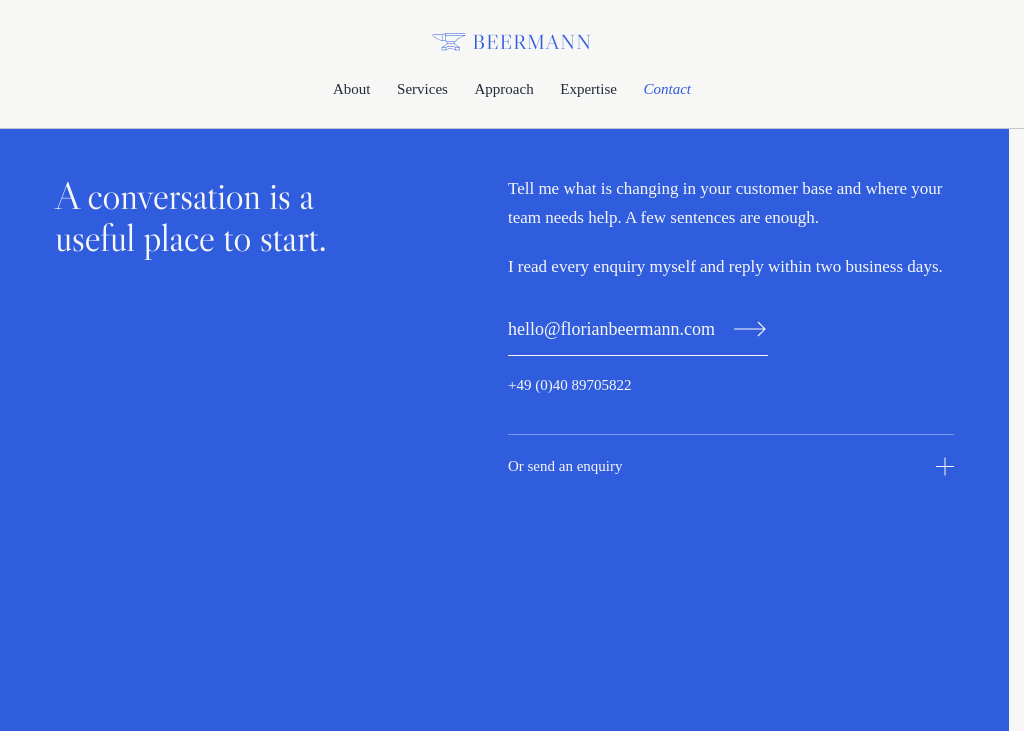
Test: boutique homepage › preserves the draft and offers email recovery after rejection
Click the heading "Or send an enquiry" at (565, 466), box left=508, top=458, right=954, bottom=476
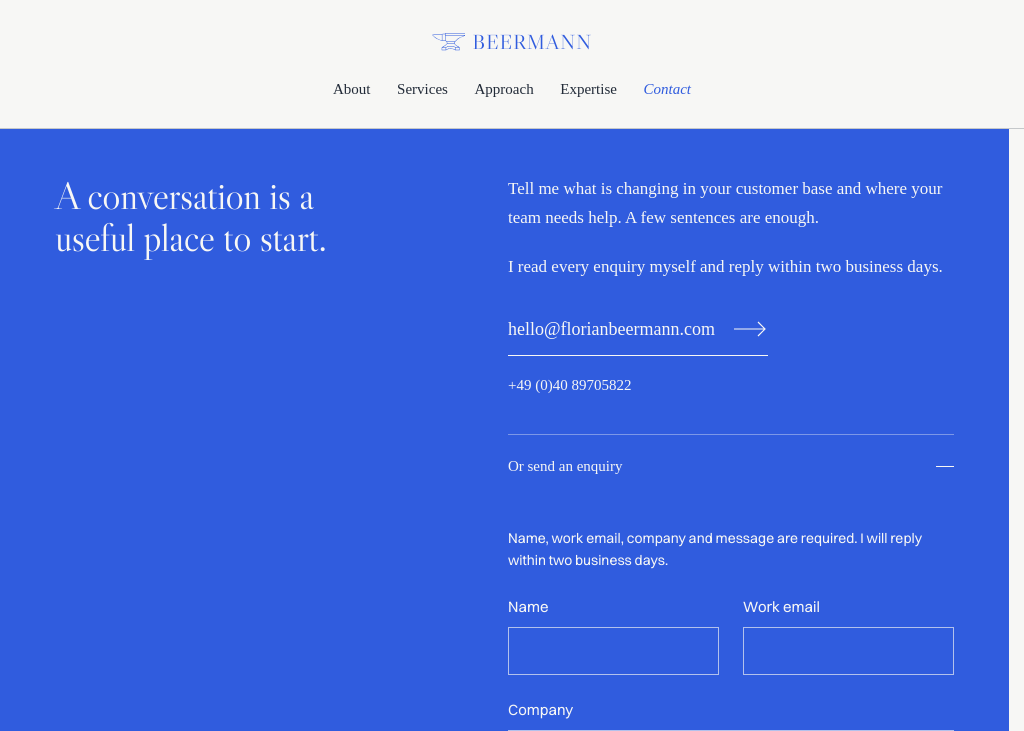
Type "Jane Doe" into the field labelled "Name" at (613, 651), box left=508, top=627, right=719, bottom=675
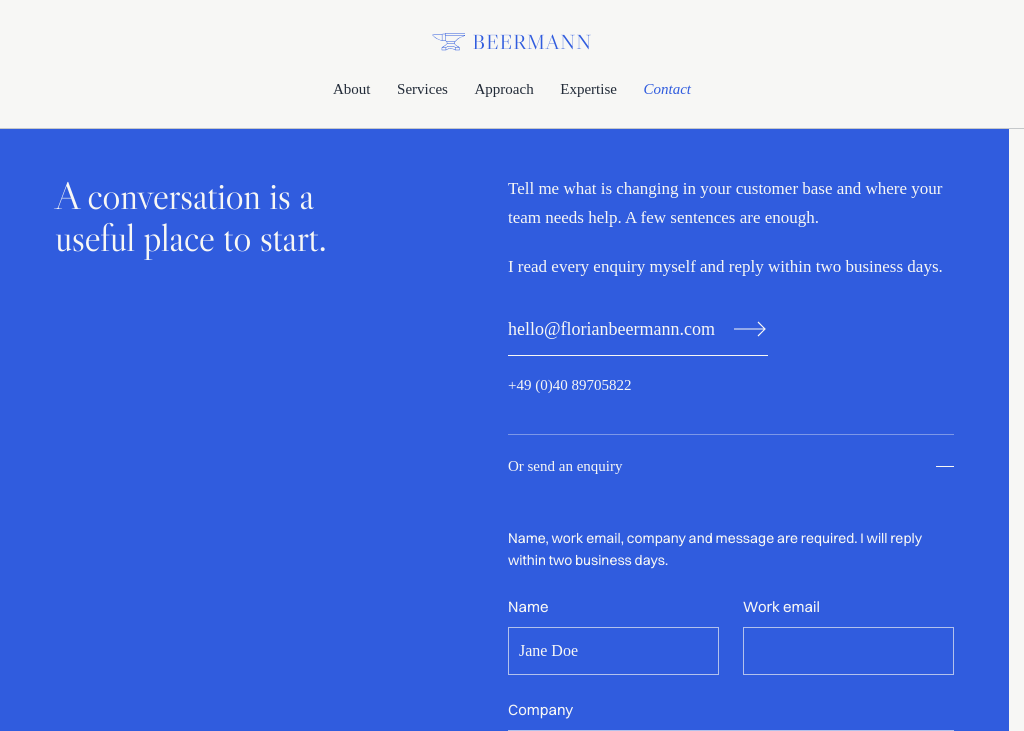
Type "jane@example.com" into the field labelled "Work email" at (848, 651), box left=743, top=627, right=954, bottom=675
(page scrolled)
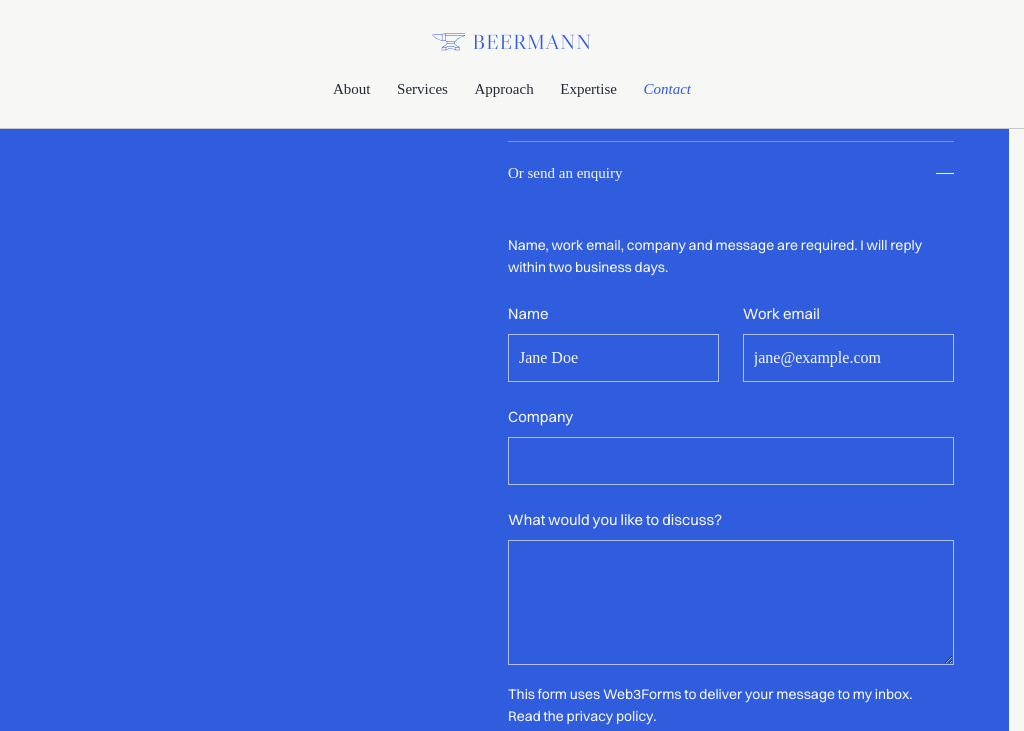
Type "Example company" into the field labelled "Company" at (731, 461), box left=508, top=437, right=954, bottom=485
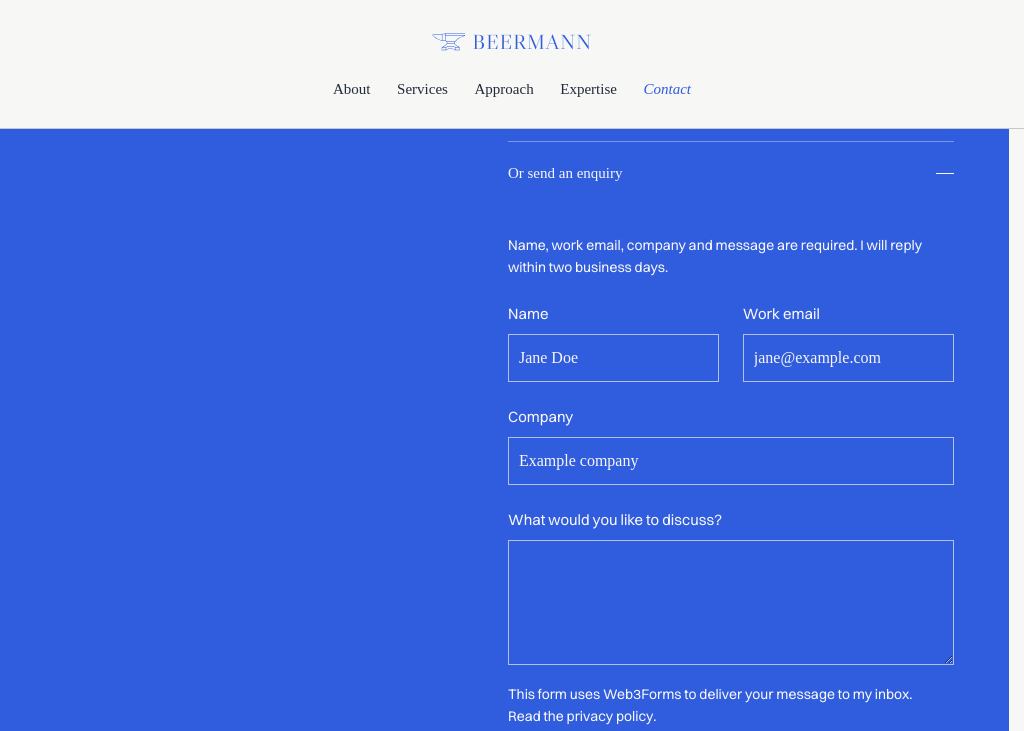
Type "Our customers have different onboarding needs." into the text box labelled "What would you like to discuss?" at (731, 602), box left=508, top=540, right=954, bottom=665
(page scrolled)
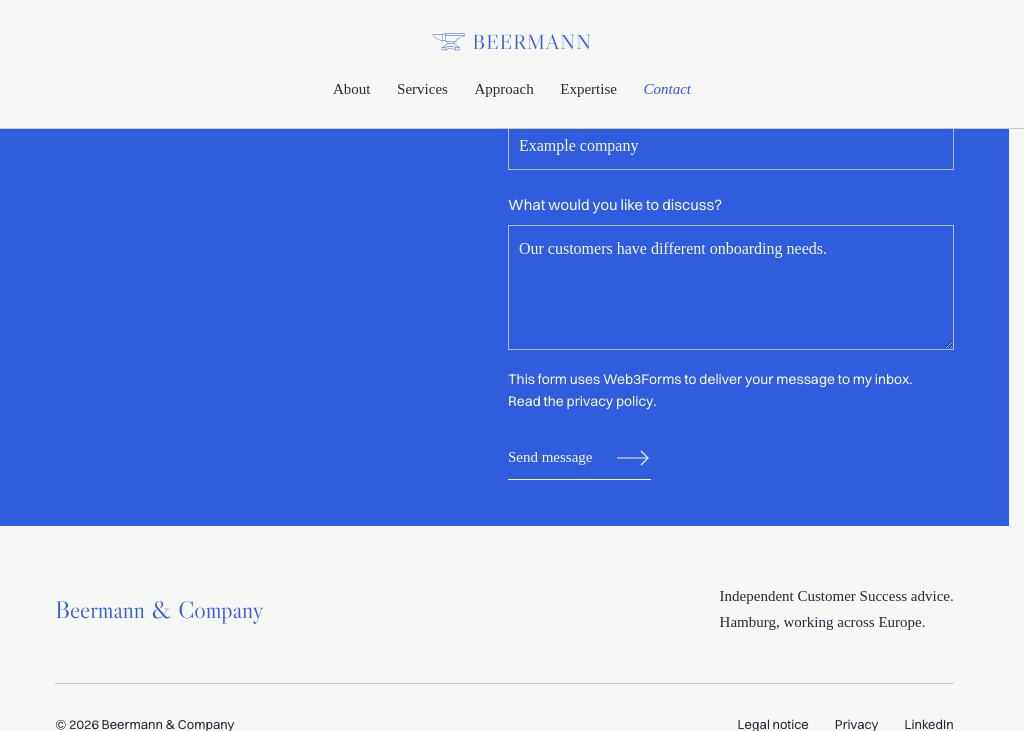
Click the button "Send message" at (579, 458), box left=508, top=436, right=650, bottom=480
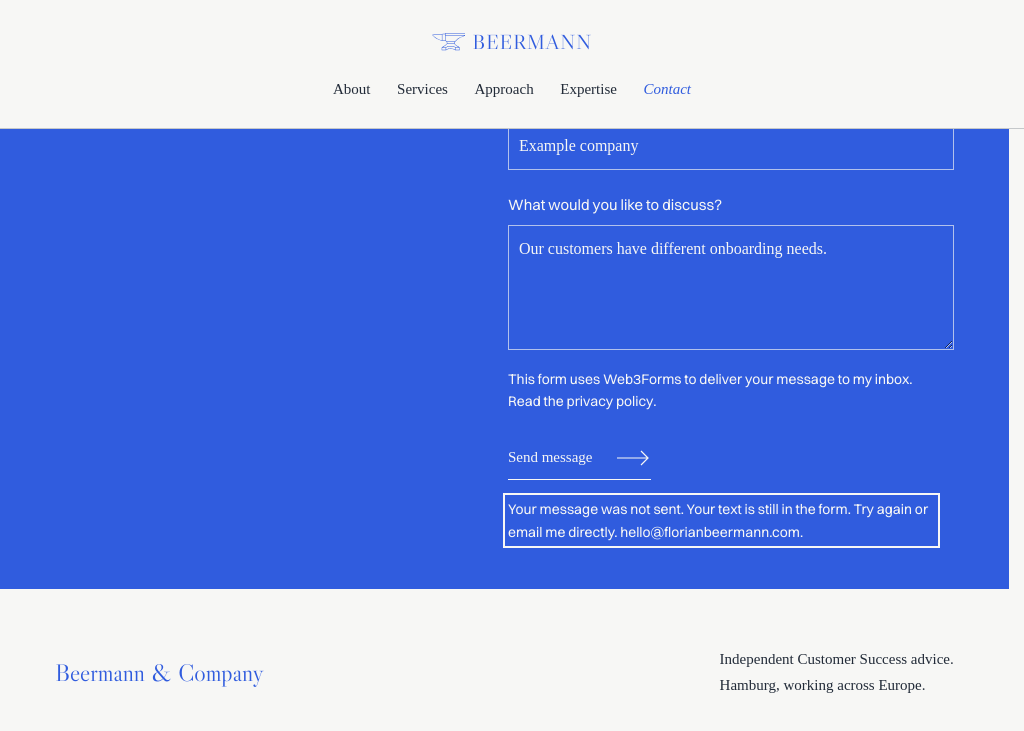
Expected: the button "Send message" is enabled, left=508, top=436, right=650, bottom=480
Expected: the message shows "Your message was not sent.", left=508, top=500, right=928, bottom=541
